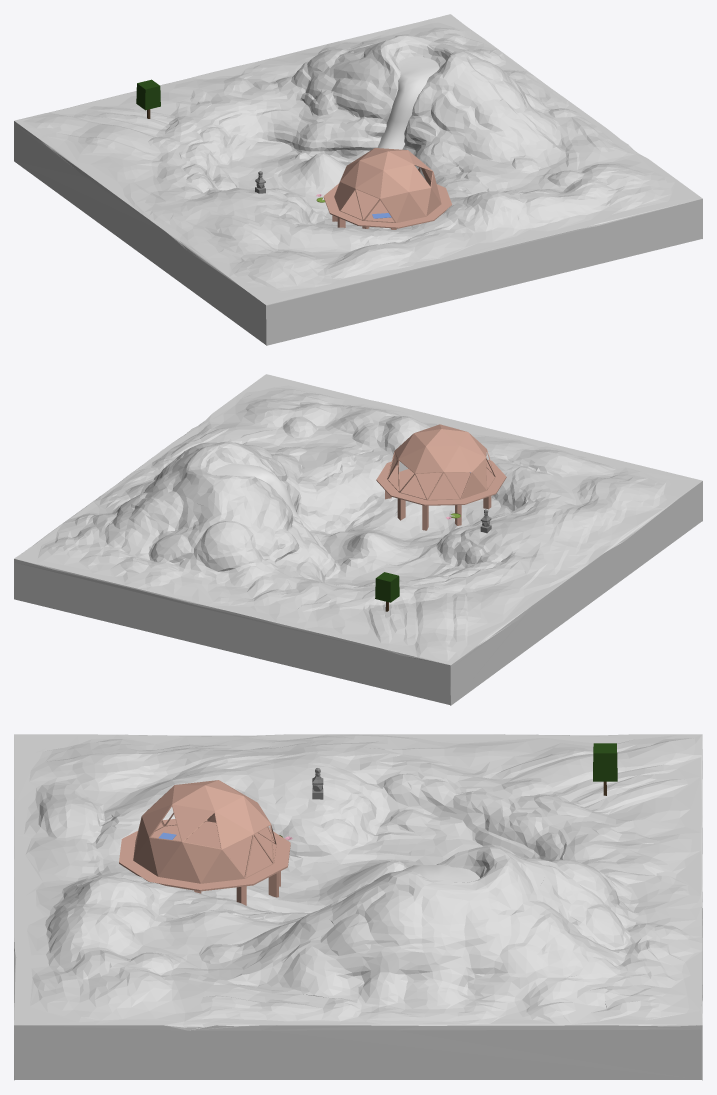
Rendered from Yoga.fbx.
3 views of the same model, one above another, from view 1: azimuth 30°, elevation 25°; view 2: azimuth 150°, elevation 25°; view 3: azimuth 270°, elevation 25° (orthographic). The views are drawn at different scales.
Visible parts, largest first — view 1: YogaPark, Domo, Plane.001, Tree; view 2: YogaPark, Domo, Plane.001, Tree; view 3: YogaPark, Domo, Tree, Plane.001.
Boxes of the visible parts, x1=… form: YogaPark: x1=14, y1=14, x2=702, y2=345; Domo: x1=323, y1=148, x2=452, y2=229; Plane.001: x1=377, y1=56, x2=439, y2=149; Tree: x1=136, y1=79, x2=160, y2=118; YogaPark: x1=14, y1=374, x2=702, y2=705; Domo: x1=376, y1=424, x2=506, y2=530; Plane.001: x1=211, y1=463, x2=311, y2=531; Tree: x1=375, y1=572, x2=399, y2=611; YogaPark: x1=14, y1=734, x2=702, y2=1080; Domo: x1=119, y1=780, x2=290, y2=905; Tree: x1=593, y1=743, x2=617, y2=795; Plane.001: x1=402, y1=865, x2=479, y2=882.
Size of the model in its own units: 4500 by 1004 by 4502.
